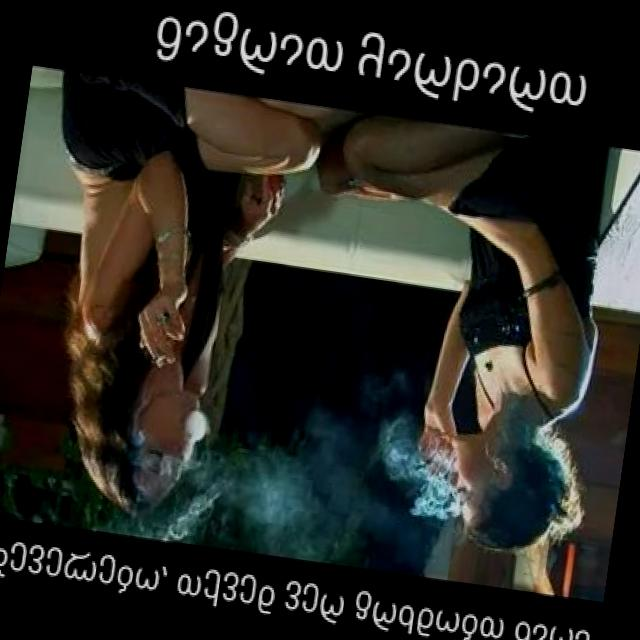smoke: (150, 347, 176, 370)
